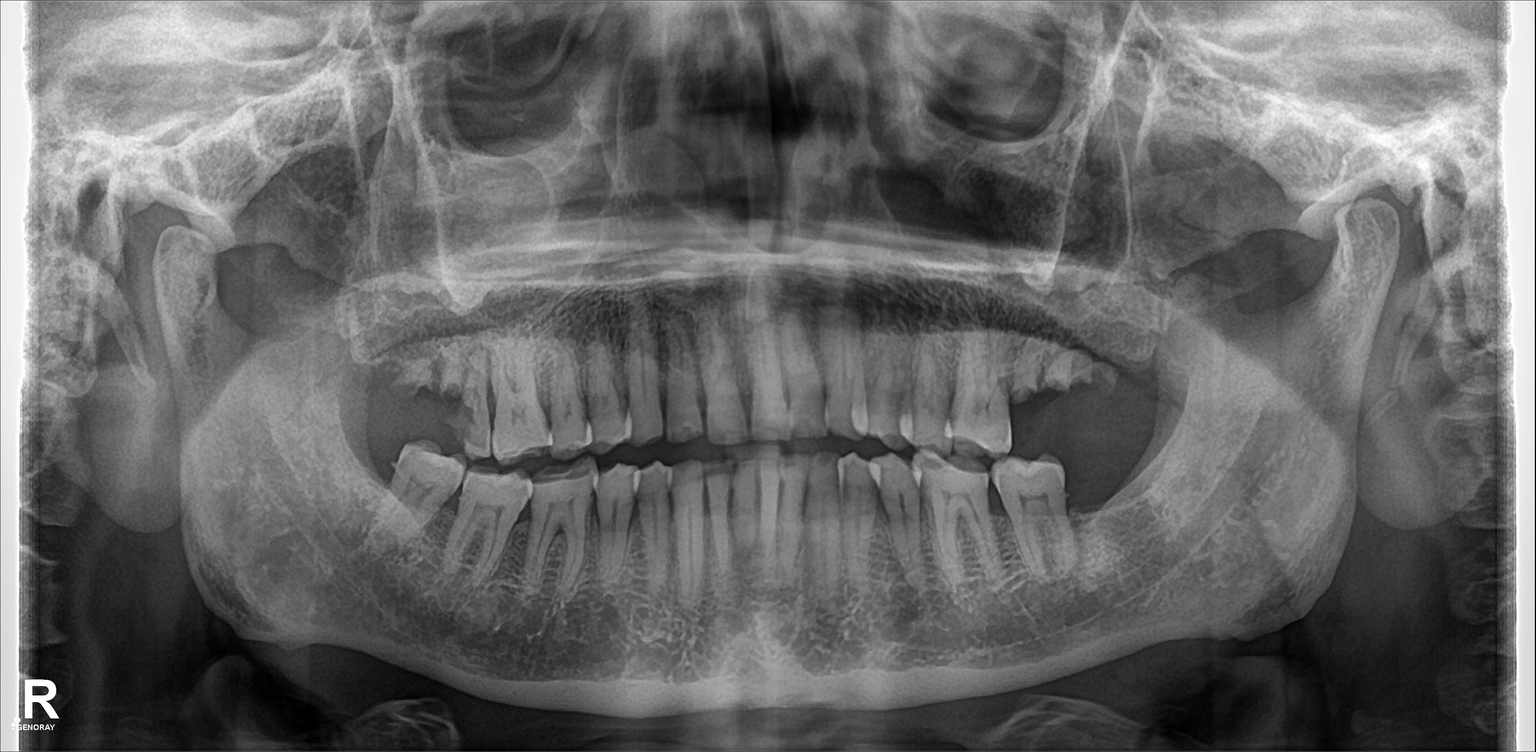Missing Tooth: (1095, 320, 1149, 417), (350, 424, 404, 518), (1110, 445, 1156, 554), (1073, 460, 1104, 544)
Retained Root: (380, 339, 432, 425), (1048, 337, 1089, 423), (1006, 337, 1044, 425), (432, 335, 468, 420)
